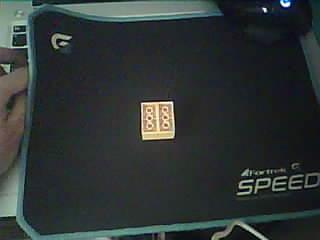lego: (140, 100, 175, 140)
